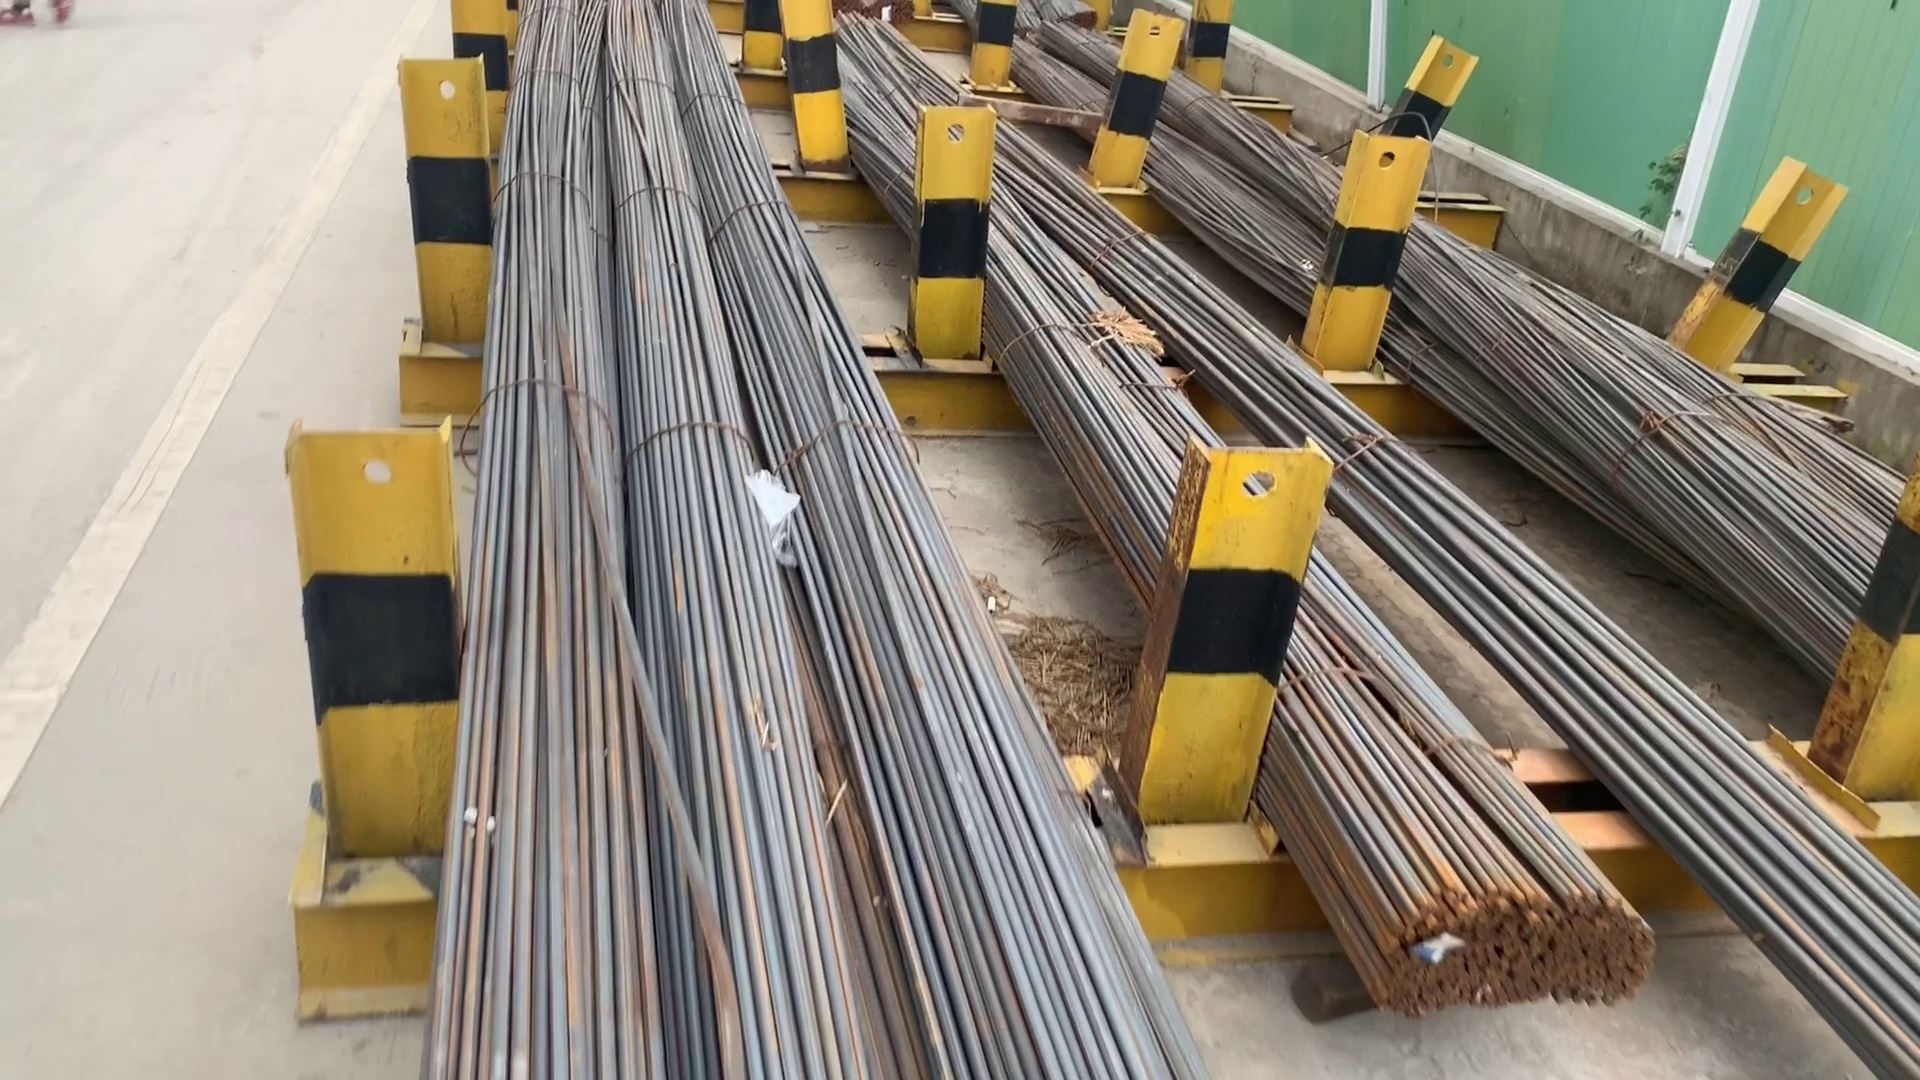rebar: (1352, 866, 1652, 1011)
